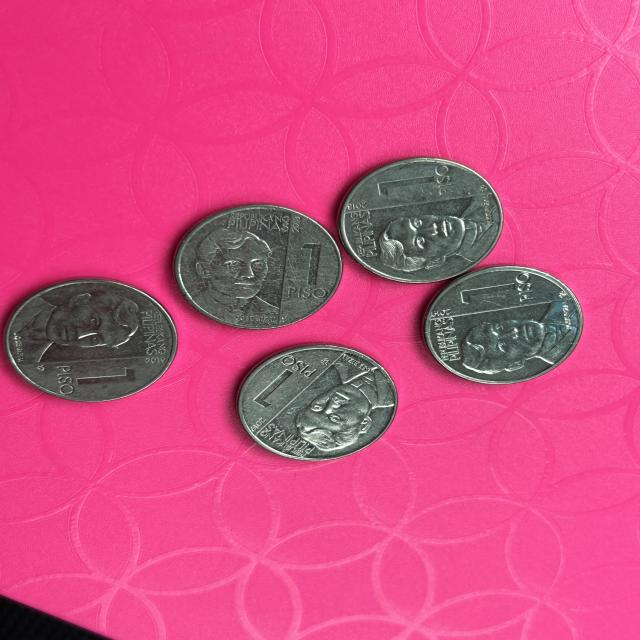1_New_Front: (240, 350, 318, 413), (282, 236, 332, 308), (44, 363, 143, 398), (374, 162, 454, 205), (458, 276, 544, 314)
